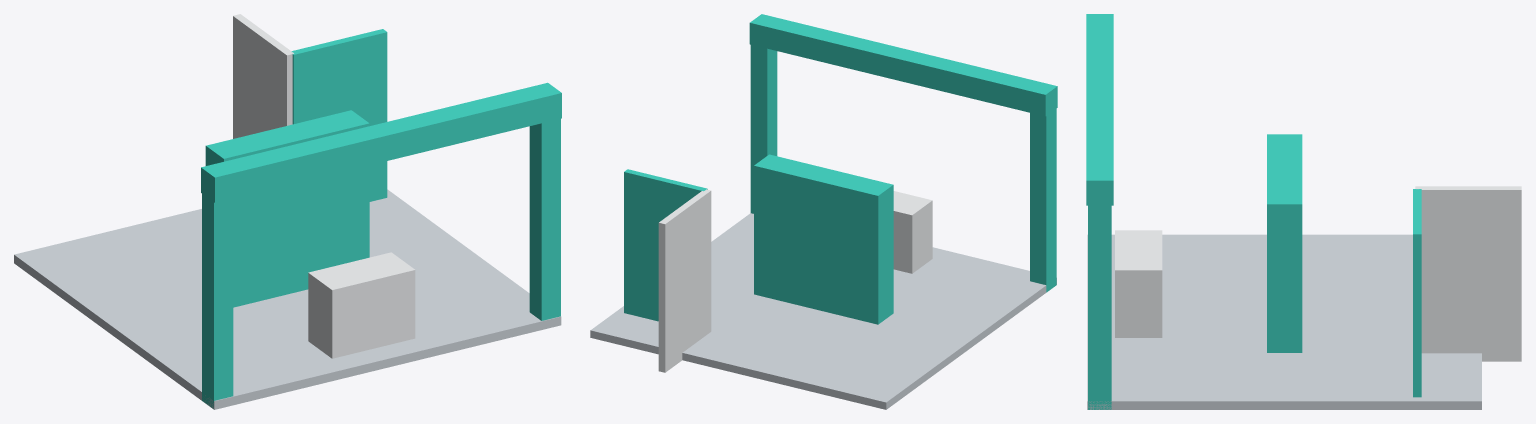
The picture shows the model from 3 angles, left to right: view 1: azimuth 30°, elevation 25°; view 2: azimuth 150°, elevation 25°; view 3: azimuth 270°, elevation 25°; orthographic projection. The views are drawn at different scales.
Visible parts, largest first — view 1: Exhibition Booth Concept; view 2: Exhibition Booth Concept; view 3: Exhibition Booth Concept.
Boxes of the visible parts, box(x1,y1,x2,y2) form: Exhibition Booth Concept: box(14, 14, 561, 409); Exhibition Booth Concept: box(590, 14, 1057, 409); Exhibition Booth Concept: box(1086, 14, 1521, 409).
Bounding box in the file's own units: 5 × 3.2 × 5.52.
